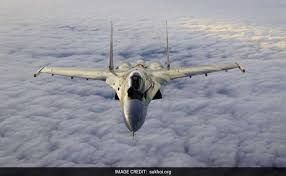fighter: (31, 19, 247, 138)
